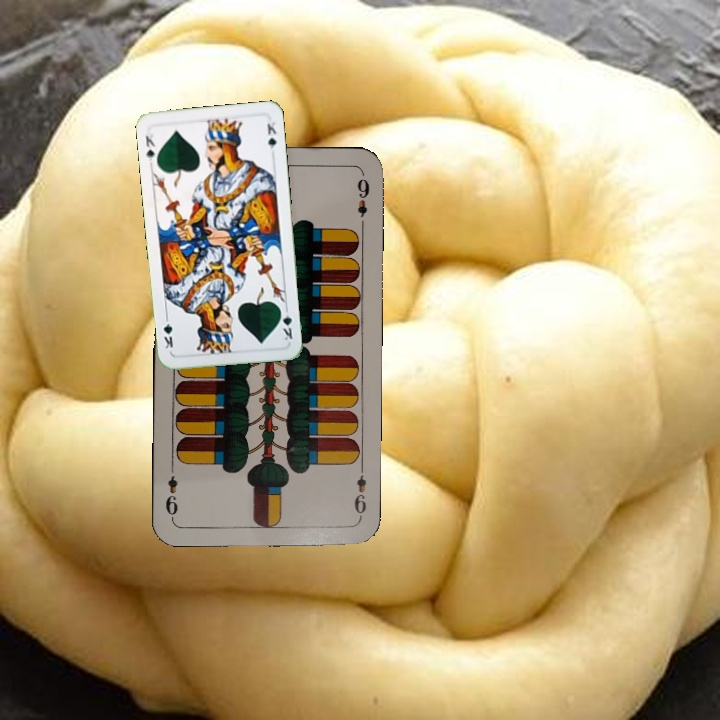E9: (350, 462, 369, 522)
GK: (276, 303, 295, 343), (141, 130, 157, 167)
